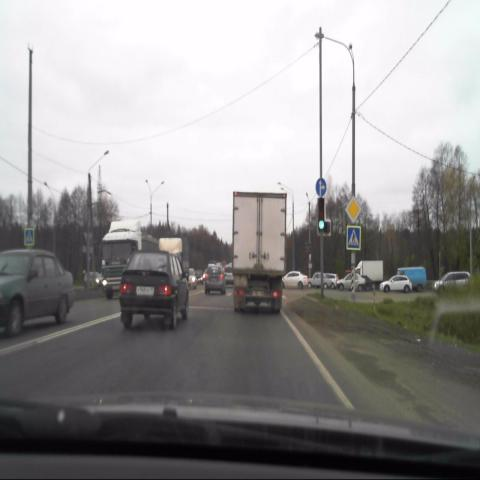2_1: (344, 196, 362, 224)
4_1_4: (314, 178, 326, 197)
5_19_1: (345, 224, 361, 250)
